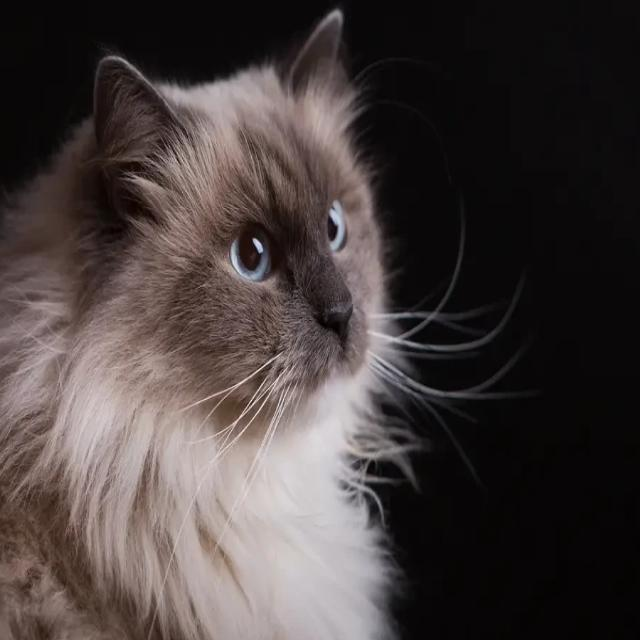Neva Masquerade: (0, 2, 416, 640)
